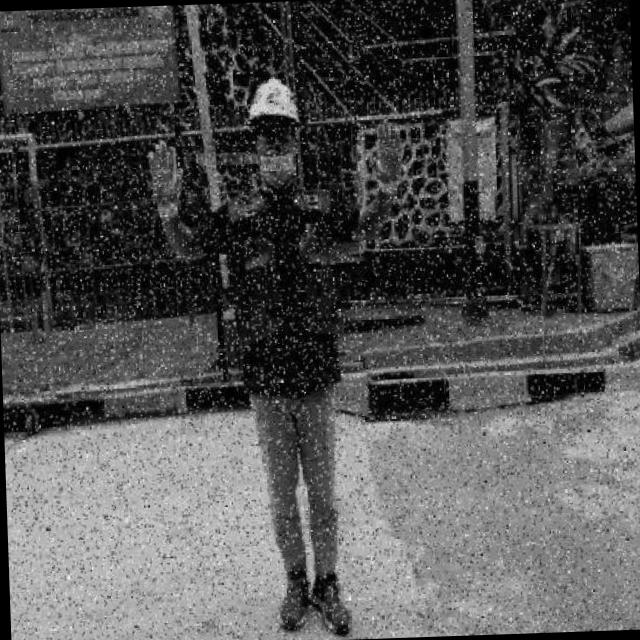hard_hat: (245, 76, 300, 126)
safety_vest: (230, 233, 346, 346)
work_boots: (310, 572, 352, 638), (276, 566, 312, 632)
